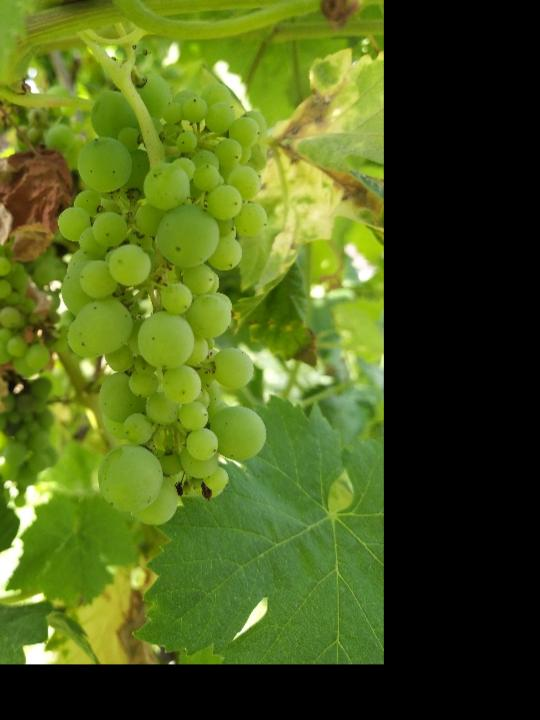grape: (60, 70, 269, 528)
